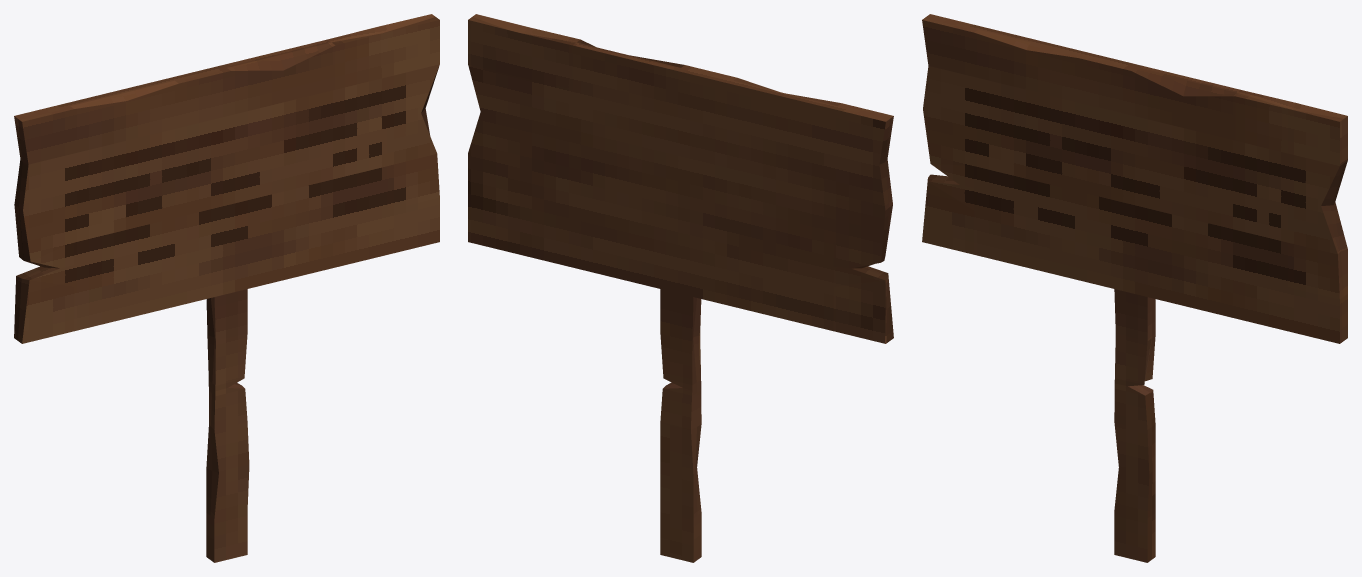
Rendered from signtest.fbx.
The picture shows the model from 3 angles, left to right: view 1: azimuth 30°, elevation 25°; view 2: azimuth 150°, elevation 25°; view 3: azimuth 330°, elevation 25°; orthographic projection.
Visible parts, largest first — view 1: Cube.001; view 2: Cube.001; view 3: Cube.001.
Boxes of the visible parts, box(x1,y1,x2,y2) form: Cube.001: box(14, 14, 439, 562); Cube.001: box(468, 14, 893, 562); Cube.001: box(922, 14, 1347, 562).
Size of the model in its own units: 329 by 367 by 12.79.
